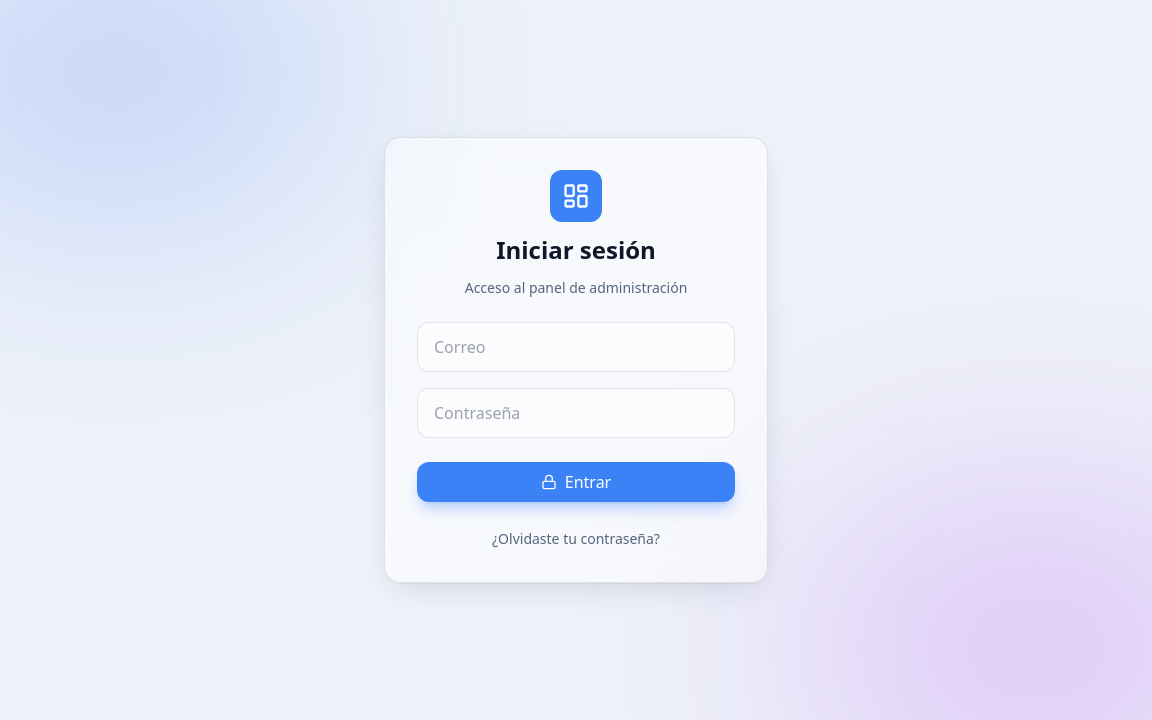
it: Login › traduce los errores de Firebase y cae a un mensaje genérico
The width and height of the screenshot is (1152, 720).
In the field with placeholder "Correo": (576, 347) 417,322 -> 735,372, type "a@b.c"
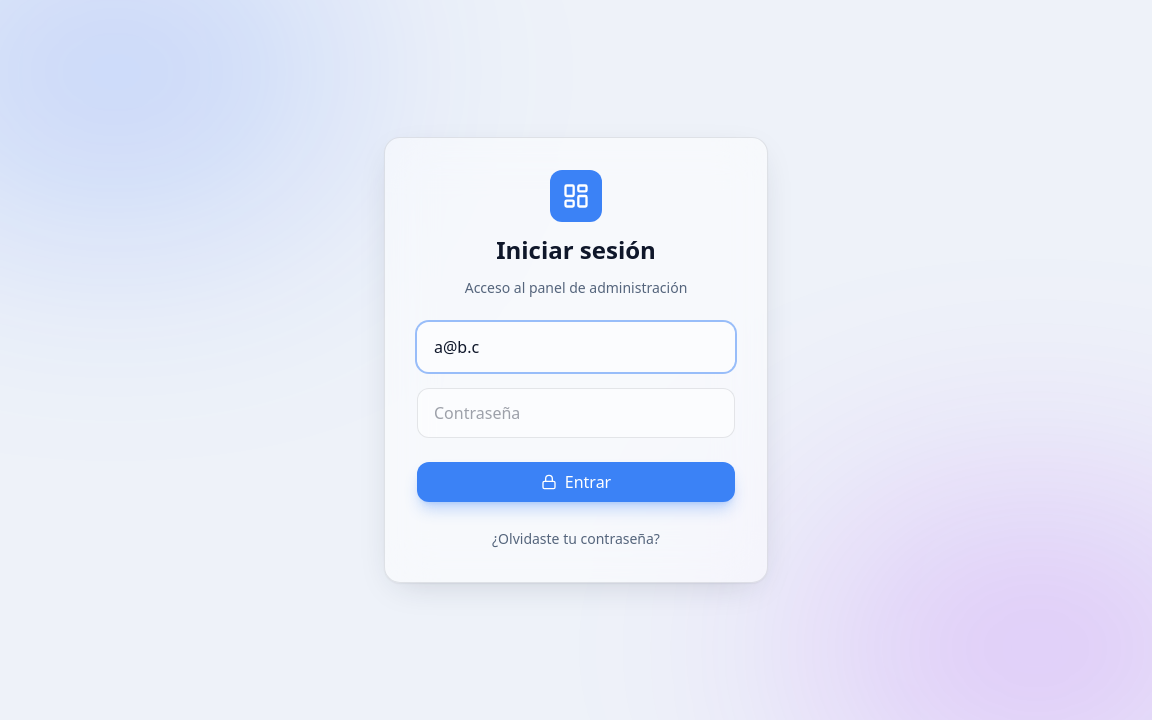
In the password field with placeholder "Contraseña": (576, 413) 417,388 -> 735,438, type "x"
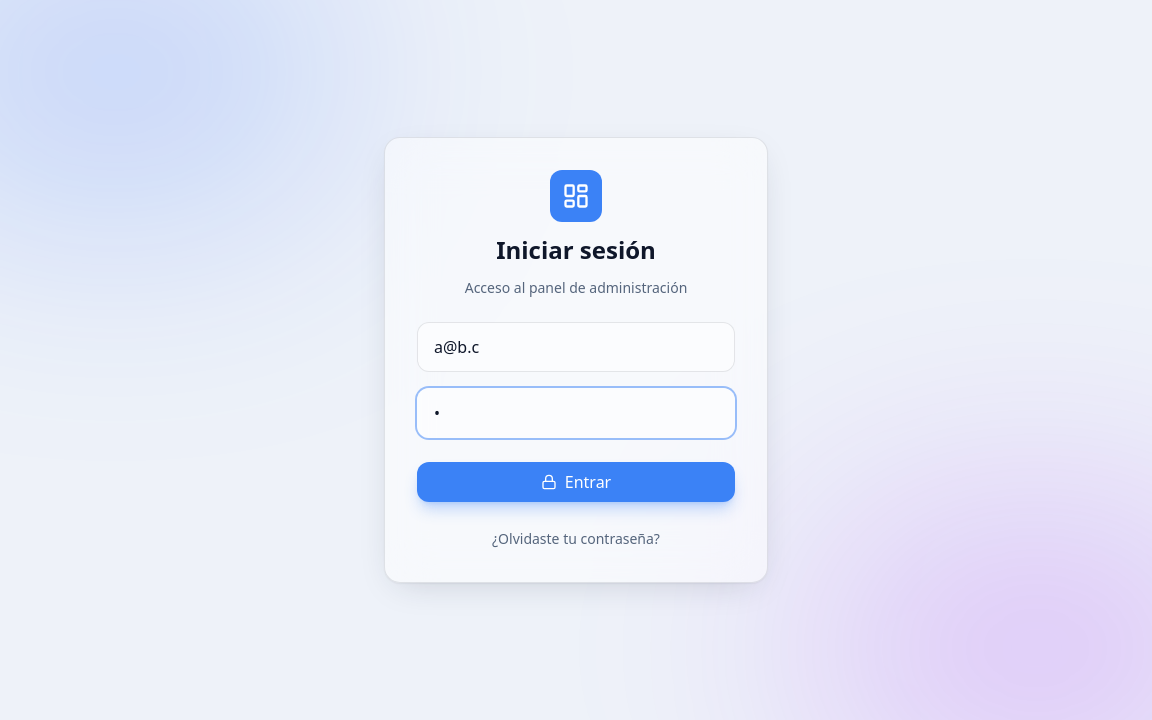
Click the button "Entrar": (576, 482) 417,462 -> 735,502
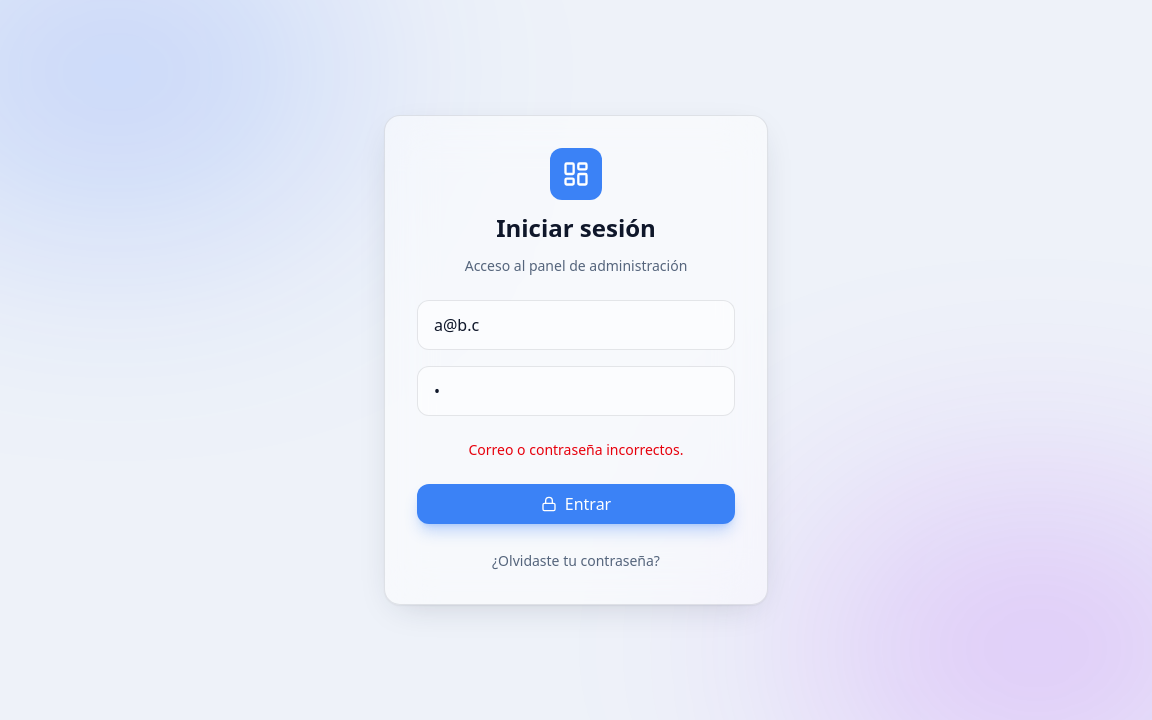
expect the text "Correo o contraseña incorrectos." is shown: met, box 468,440 -> 684,459
Click the button "Entrar": (576, 504) 417,484 -> 735,524
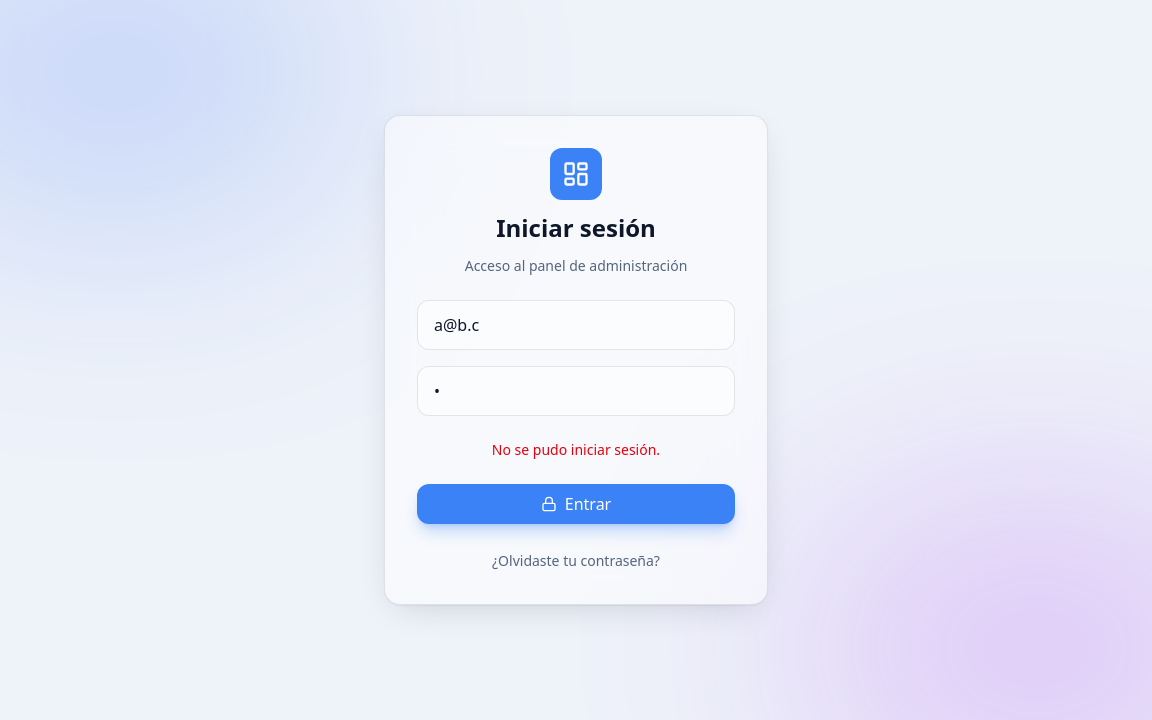
expect the text "No se pudo iniciar sesión." is shown: met, box 492,440 -> 660,459
